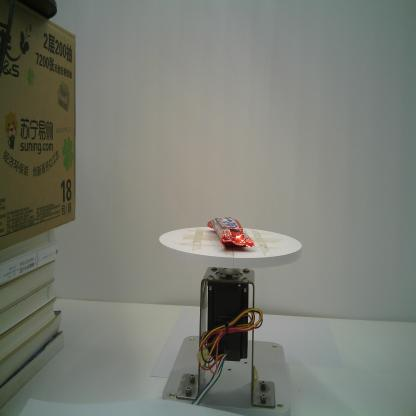Chocolate: (206, 215, 257, 250)
